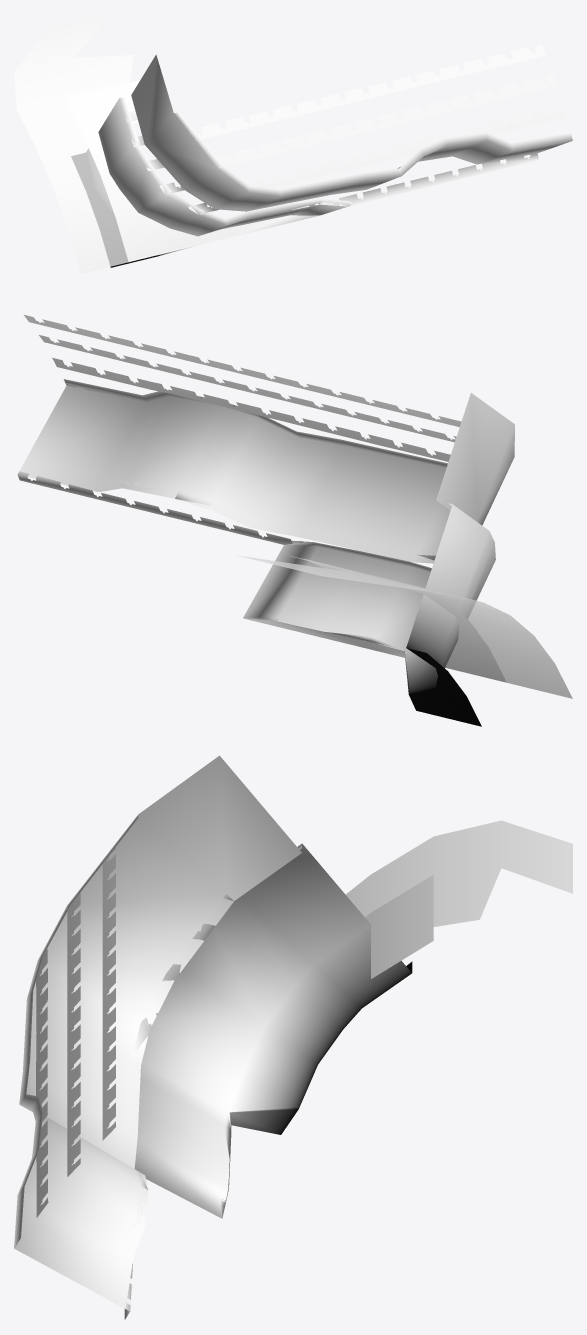
The model's file is grd_Enw_Mi_0.dae.
3 views of the same model, one above another, from view 1: azimuth 30°, elevation 25°; view 2: azimuth 150°, elevation 25°; view 3: azimuth 270°, elevation 25° (orthographic). The views are drawn at different scales.
Visible parts, largest first — view 1: grd_Enw_Mi_0; view 2: grd_Enw_Mi_0; view 3: grd_Enw_Mi_0.
Boxes of the visible parts, x1,y1,x2,y2 form: grd_Enw_Mi_0: (14,14,572,273); grd_Enw_Mi_0: (17,315,572,726); grd_Enw_Mi_0: (14,755,572,1319).
Bounding box in the file's own units: 576 × 284 × 396.
7 materials, 1 textured.
